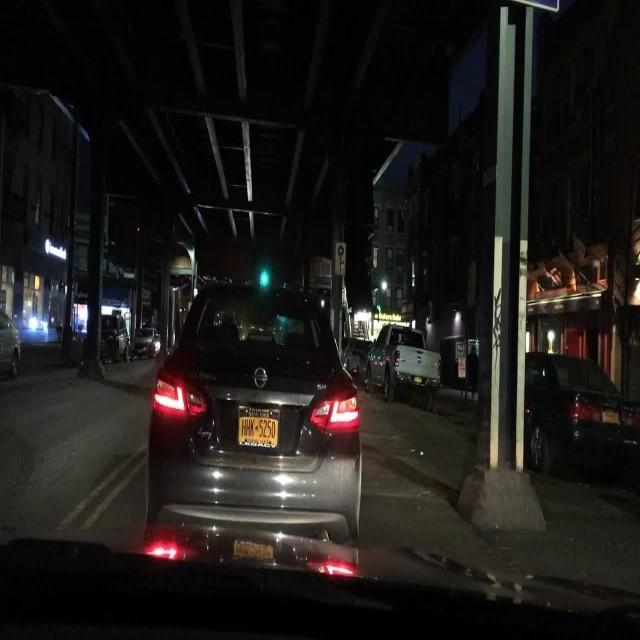normal: (150, 273, 351, 573), (360, 300, 463, 417)
